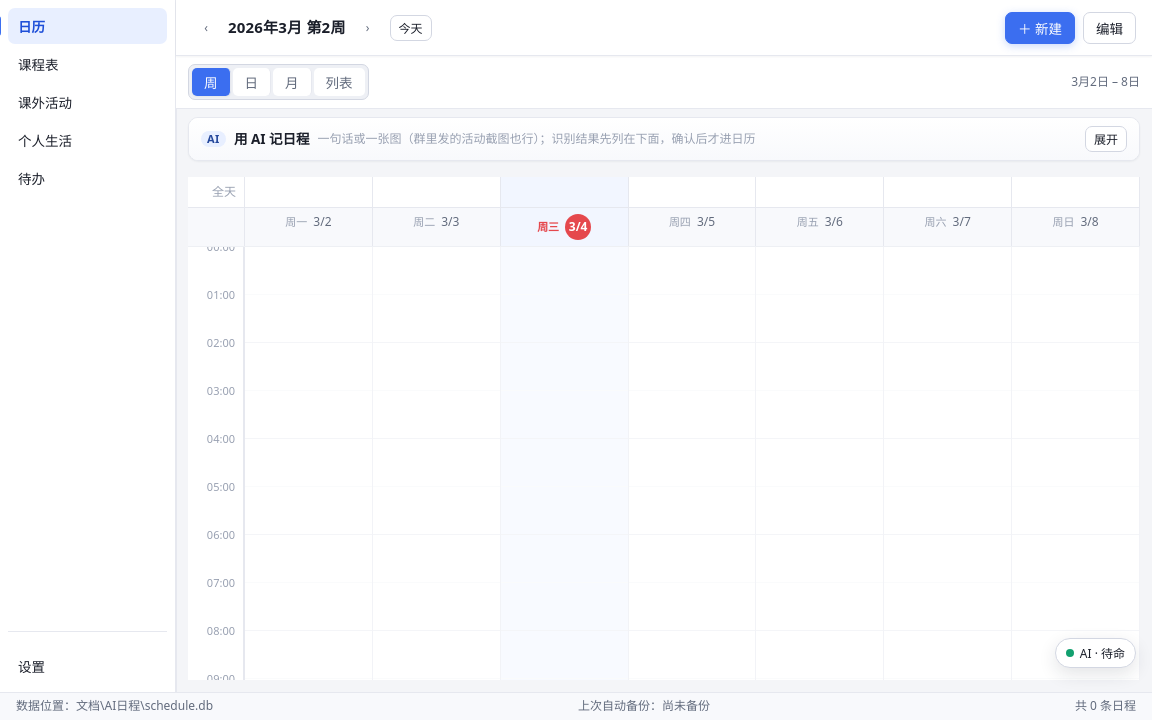
反馈 #12：重复日程在母事件之后的周仍要显示 › 翻到两周后仍能看到那一次的实例
Step 1. Click the button named "下一页" → (368,28), box x1=354 y1=14 x2=382 y2=40
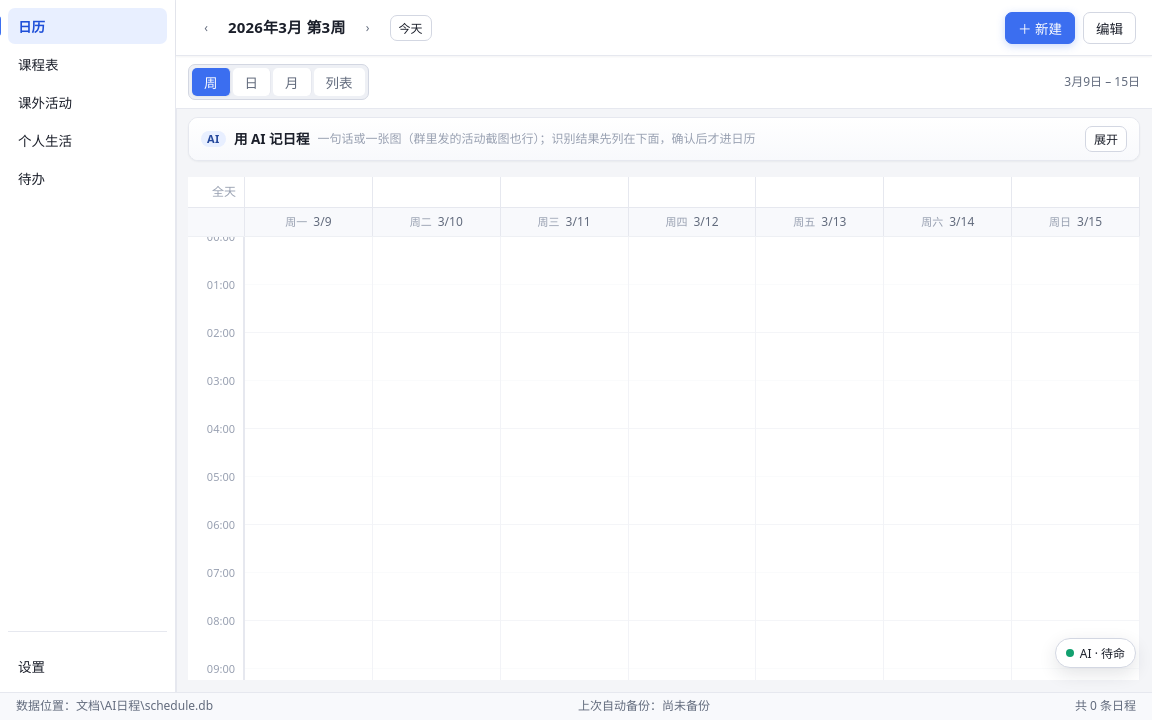
Step 2. Click the button named "下一页" → (368,28), box x1=354 y1=14 x2=382 y2=40
(page scrolled)
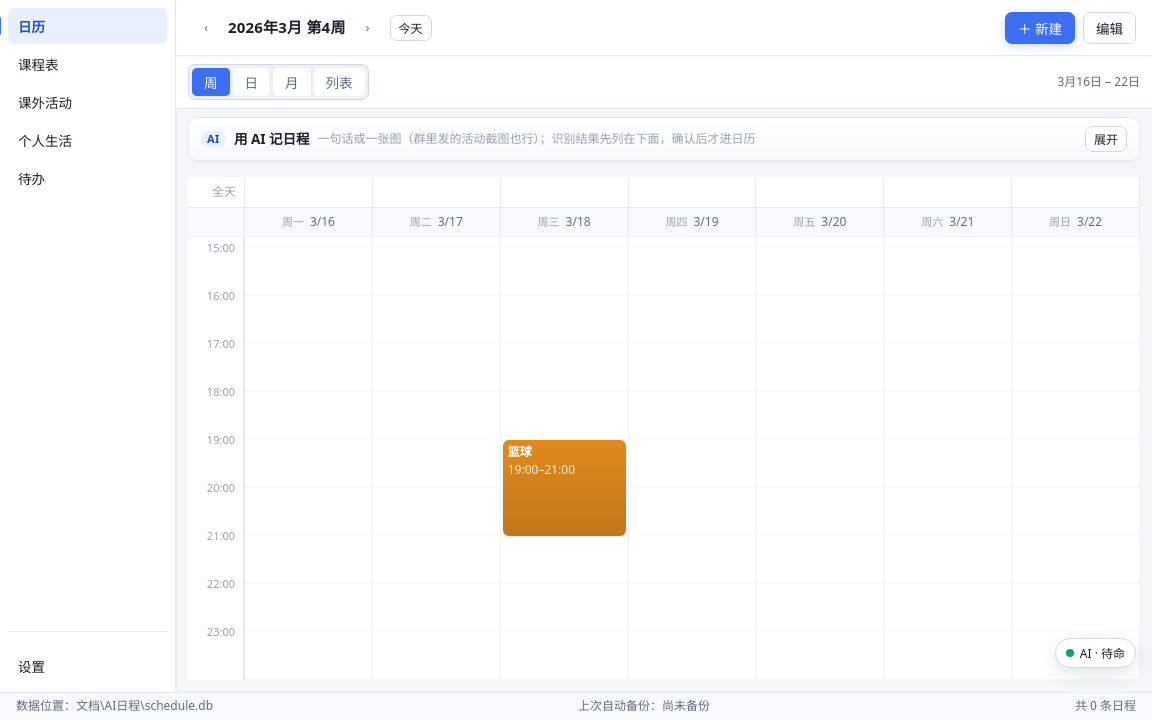
Expected: the button with test id "block-m1#2026-03-18" is shown, x1=503 y1=440 x2=626 y2=536
